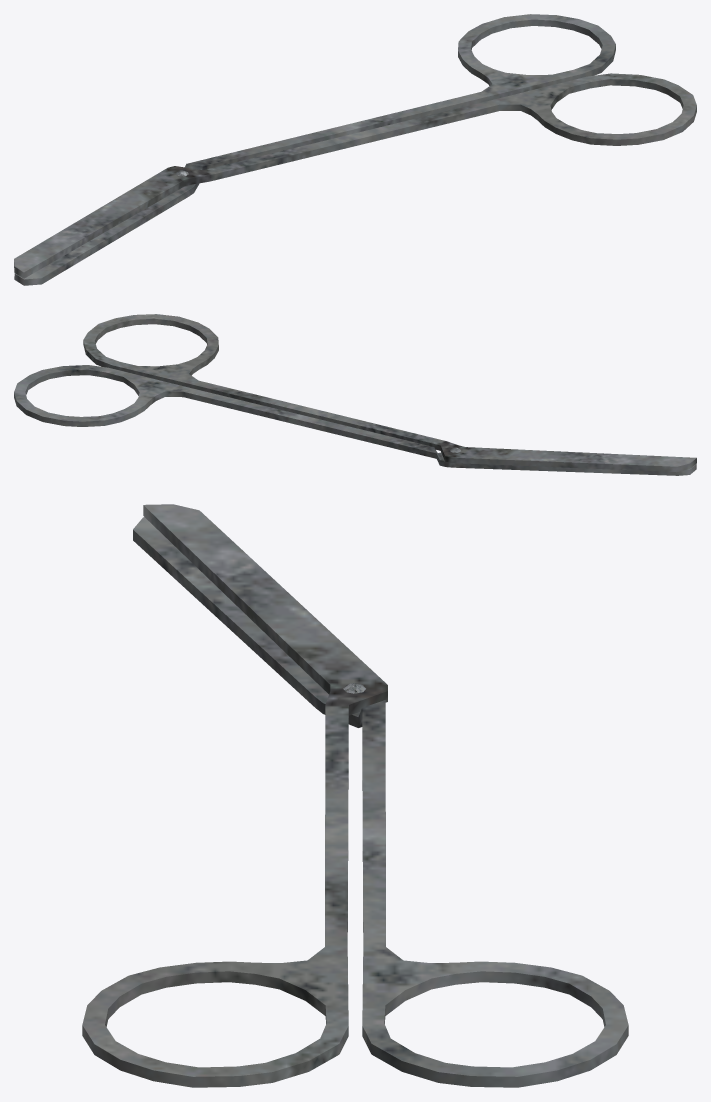
Rendered from surgery_operatingscissor.dae.
3 views of the same model, one above another, from view 1: azimuth 30°, elevation 25°; view 2: azimuth 150°, elevation 25°; view 3: azimuth 270°, elevation 25° (orthographic). The views are drawn at different scales.
Parts seen in each view (by area): view 1: polySurface6; view 2: polySurface6; view 3: polySurface6.
Part boxes in pixels (x1,y1,x2,y2): polySurface6: [14, 14, 696, 285]; polySurface6: [14, 314, 696, 475]; polySurface6: [82, 504, 628, 1087].
Size of the model in its own units: 25.07 by 0.646 by 10.11.
